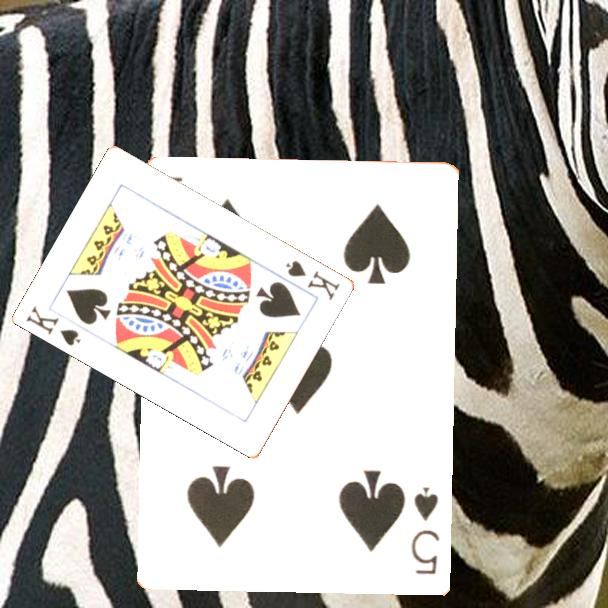s05: (408, 484, 443, 578)
s13: (23, 302, 84, 349), (282, 257, 343, 303)
